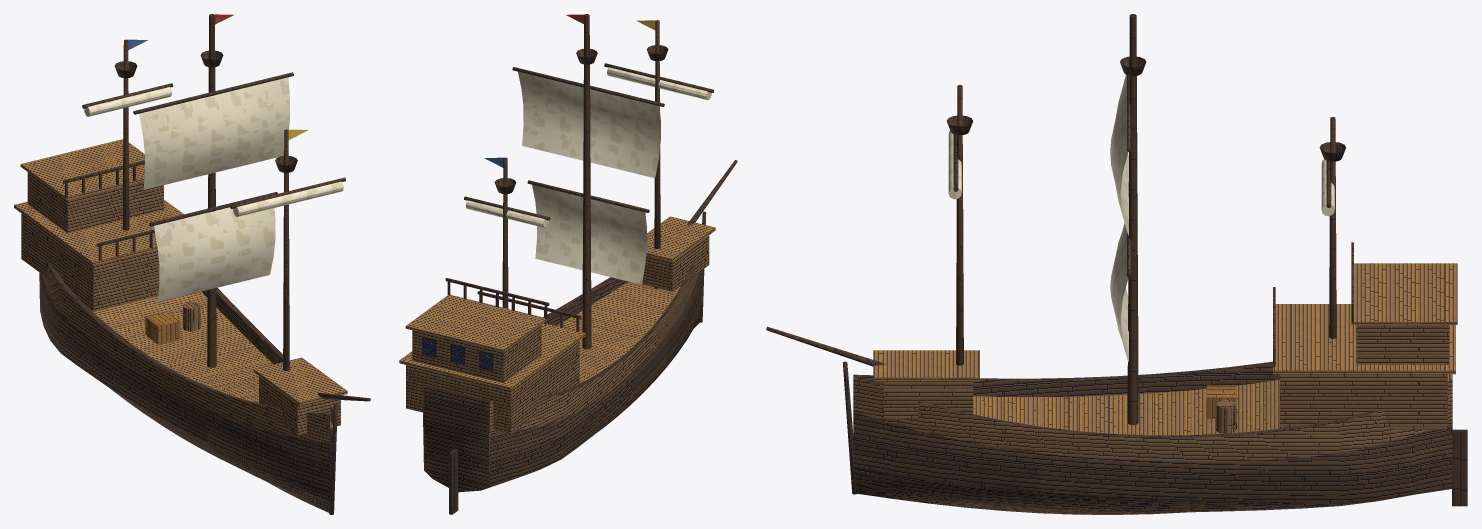
File: med_ship_0.glb
The picture shows the model from 3 angles, left to right: view 1: azimuth 30°, elevation 25°; view 2: azimuth 150°, elevation 25°; view 3: azimuth 270°, elevation 25°; orthographic projection. The views are drawn at different scales.
Parts seen in each view (by area): view 1: med_ship_1; view 2: med_ship_1; view 3: med_ship_1.
Boxes of the visible parts, x1,y1,x2,y2 form: med_ship_1: [14, 14, 370, 514]; med_ship_1: [399, 14, 737, 514]; med_ship_1: [766, 14, 1467, 514].
Bounding box in the file's own units: 6.4 × 16.57 × 21.07.
11 materials, 11 textured.
